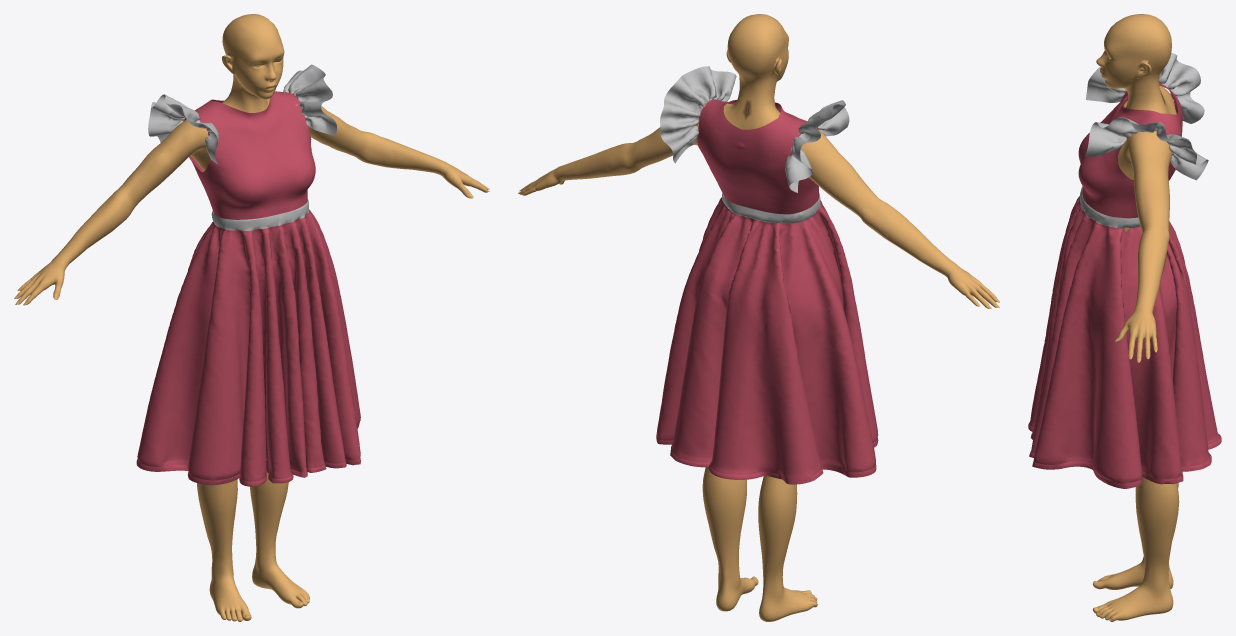
Rendered from dress4.glb.
3 views of the same model, side by side, from view 1: azimuth 30°, elevation 25°; view 2: azimuth 150°, elevation 25°; view 3: azimuth 270°, elevation 25° (orthographic).
Parts seen in each view (by area): view 1: PinkDrees#14 (OBJ), Body; view 2: PinkDrees#14 (OBJ), Body; view 3: PinkDrees#14 (OBJ), Body.
Boxes of the visible parts, bbox=[...] form: PinkDrees#14 (OBJ): bbox=[136, 64, 360, 486]; Body: bbox=[16, 14, 489, 621]; PinkDrees#14 (OBJ): bbox=[656, 66, 878, 484]; Body: bbox=[519, 14, 996, 621]; PinkDrees#14 (OBJ): bbox=[1028, 52, 1221, 488]; Body: bbox=[1093, 14, 1179, 621].
Size of the model in its own units: 1.58 by 1.85 by 0.5546.
